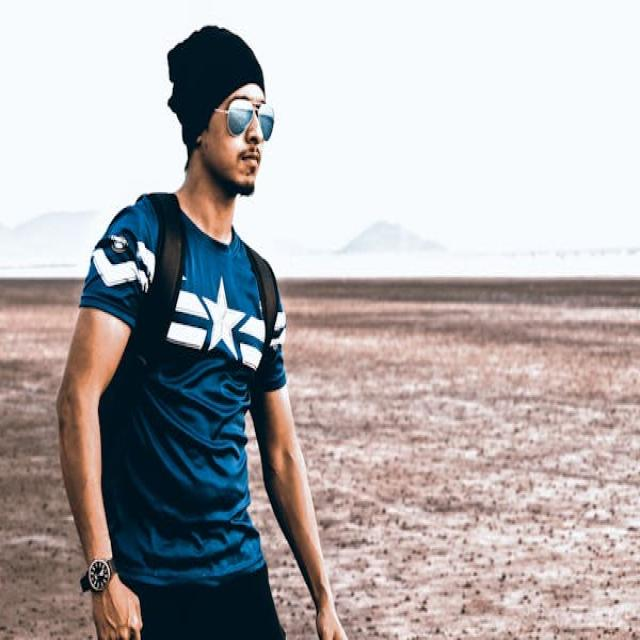Real human 2: (51, 9, 357, 640)
